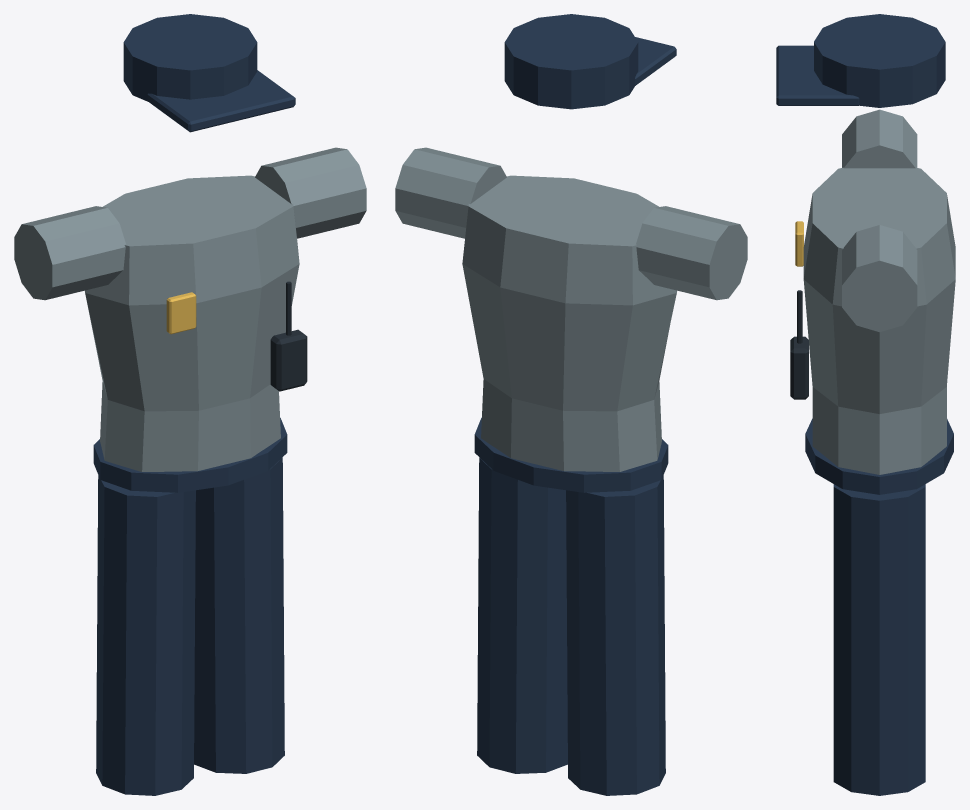
Rendered from Modular_Guard_Uniform.fbx.
3 renders of one model, left to right at view 1: azimuth 30°, elevation 25°; view 2: azimuth 150°, elevation 25°; view 3: azimuth 270°, elevation 25°, orthographic.
Visible parts, largest first — view 1: Shirt.017, PantsLeg.028, PantsLeg.029, CapCrown.006, Sleeve.034, Sleeve.035, Belt.016, CapVisor.006, Radio.003, Badge.003; view 2: Shirt.017, PantsLeg.028, PantsLeg.029, CapCrown.006, Sleeve.034, Sleeve.035, Belt.016, CapVisor.006; view 3: Shirt.017, PantsLeg.029, CapCrown.006, Sleeve.035, Sleeve.034, Belt.016, CapVisor.006, Radio.003, Badge.003.
Boxes of the visible parts, x1,y1,x2,y2 form: Shirt.017: [85, 175, 299, 471]; PantsLeg.028: [96, 475, 195, 795]; PantsLeg.029: [194, 457, 284, 773]; CapCrown.006: [123, 14, 257, 101]; Sleeve.034: [14, 206, 125, 300]; Sleeve.035: [255, 147, 366, 238]; Belt.016: [93, 417, 287, 492]; CapVisor.006: [147, 70, 295, 132]; Radio.003: [270, 329, 307, 391]; Badge.003: [166, 292, 196, 334]; Shirt.017: [462, 175, 676, 471]; PantsLeg.028: [566, 475, 665, 795]; PantsLeg.029: [477, 457, 567, 773]; CapCrown.006: [504, 14, 638, 109]; Sleeve.034: [636, 206, 747, 300]; Sleeve.035: [395, 147, 506, 238]; Belt.016: [474, 417, 668, 492]; CapVisor.006: [635, 37, 676, 85]; Shirt.017: [803, 167, 955, 474]; PantsLeg.029: [833, 484, 925, 795]; CapCrown.006: [814, 14, 945, 107]; Sleeve.035: [842, 225, 917, 332]; Sleeve.034: [842, 109, 917, 168]; Belt.016: [805, 418, 953, 494]; CapVisor.006: [776, 45, 859, 105]; Radio.003: [790, 336, 808, 399]; Badge.003: [795, 221, 803, 266].
Size of the model in its own units: 0.76 by 1.67 by 0.3817.
